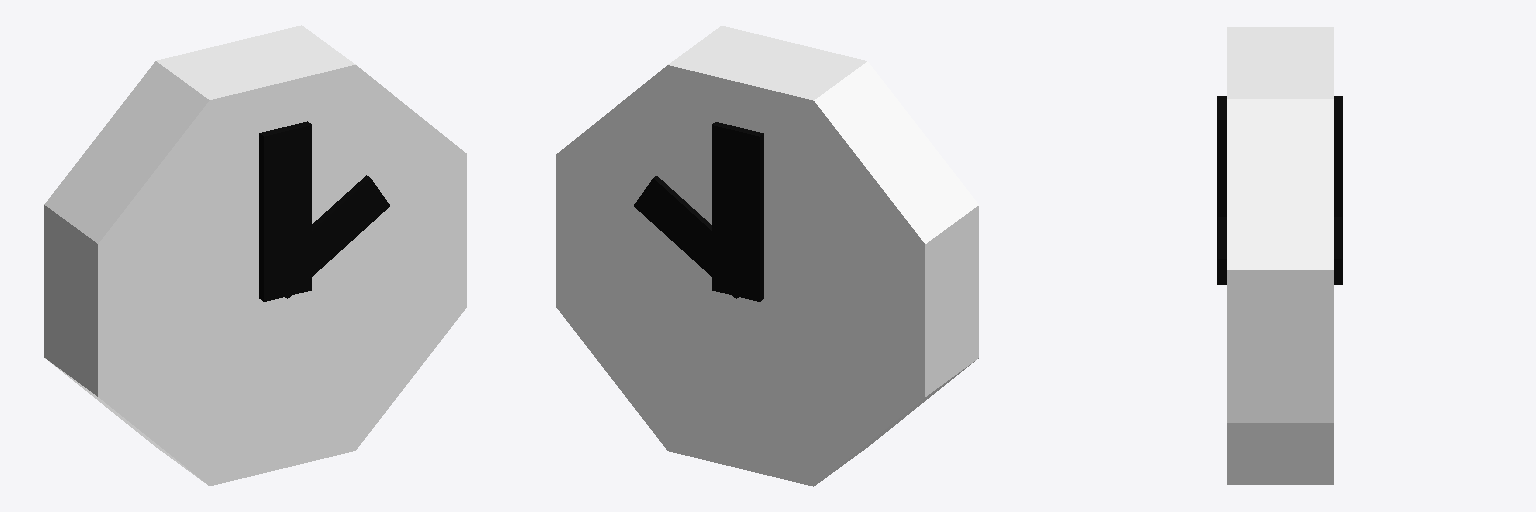
Rendered from immunity.obj.
The picture shows the model from 3 angles: view 1: azimuth 30°, elevation 25°; view 2: azimuth 150°, elevation 25°; view 3: azimuth 270°, elevation 25°; orthographic projection.
Visible parts, largest first — view 1: ClockIcon_Plane.012; view 2: ClockIcon_Plane.012; view 3: ClockIcon_Plane.012.
Part boxes in pixels (x1,y1,x2,y2): ClockIcon_Plane.012: (44, 25, 466, 485); ClockIcon_Plane.012: (556, 26, 978, 486); ClockIcon_Plane.012: (1217, 27, 1342, 484).
Size of the model in its own units: 0.6129 by 0.6129 by 0.1814.